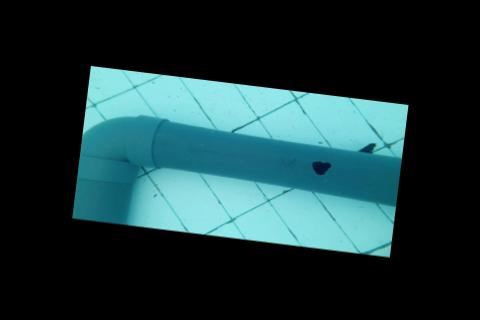kebocoran: (308, 158, 332, 177)
